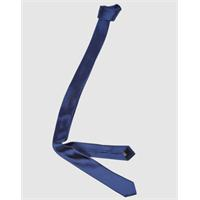tie: (52, 4, 136, 196)
